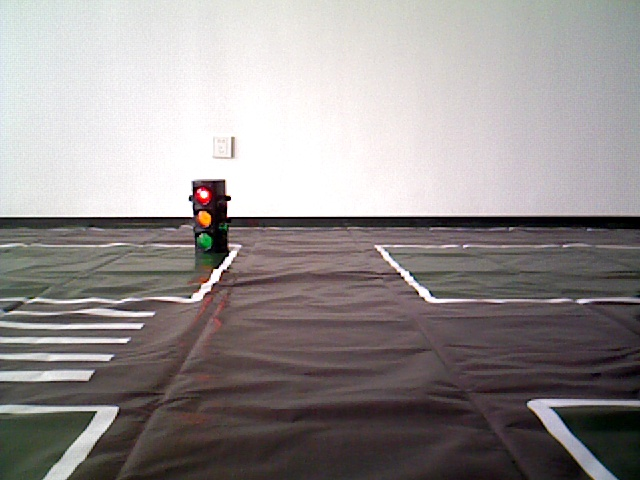red: (193, 180, 223, 254)
